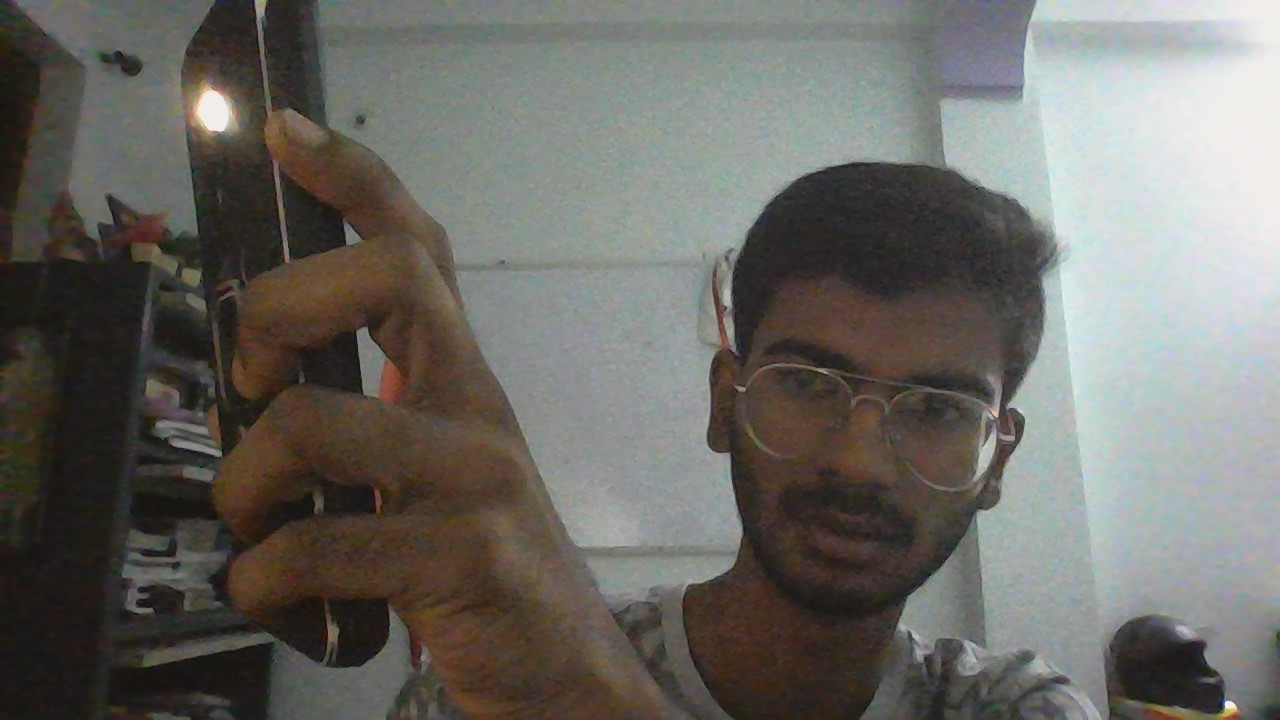Glare: (192, 92, 230, 133)
